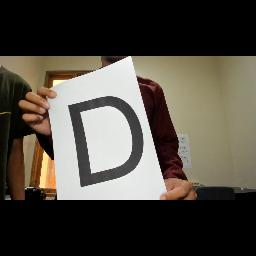d: (64, 94, 148, 190)
